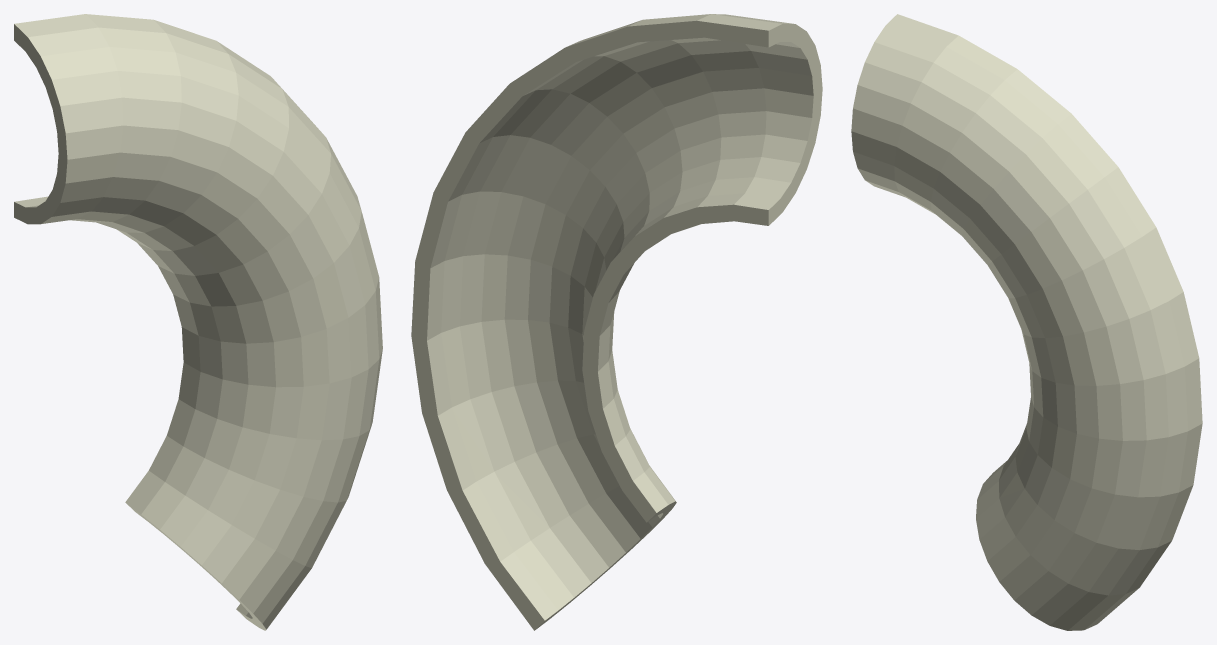
The model's file is section_440.obj.
3 views of the same model, side by side, from view 1: azimuth 30°, elevation 25°; view 2: azimuth 150°, elevation 25°; view 3: azimuth 330°, elevation 25° (orthographic). The views are drawn at different scales.
Size of the model in its own units: 22.97 by 40.38 by 6.
